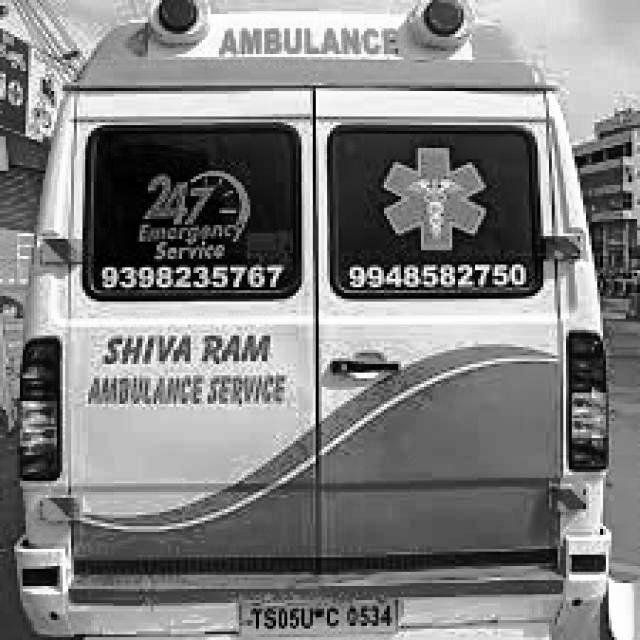LCV: (15, 18, 613, 640)
